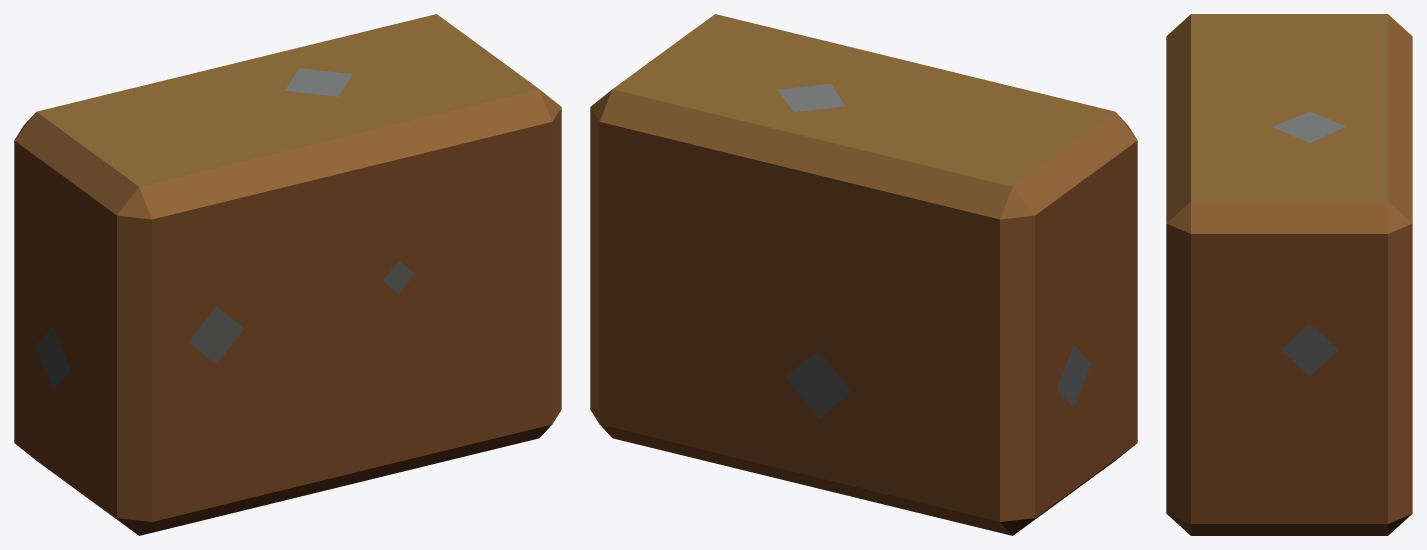
The model's file is m_kub_dirt_halfMid.FBX.
The picture shows the model from 3 angles, left to right: view 1: azimuth 30°, elevation 25°; view 2: azimuth 150°, elevation 25°; view 3: azimuth 270°, elevation 25°; orthographic projection. The views are drawn at different scales.
Visible parts, largest first — view 1: m_kub_dirt_halfMid; view 2: m_kub_dirt_halfMid; view 3: m_kub_dirt_halfMid.
Part boxes in pixels (x1,y1,x2,y2): m_kub_dirt_halfMid: (14, 14, 561, 535); m_kub_dirt_halfMid: (590, 14, 1137, 535); m_kub_dirt_halfMid: (1166, 14, 1412, 535).
Bounding box in the file's own units: 2 × 1.5 × 1.
